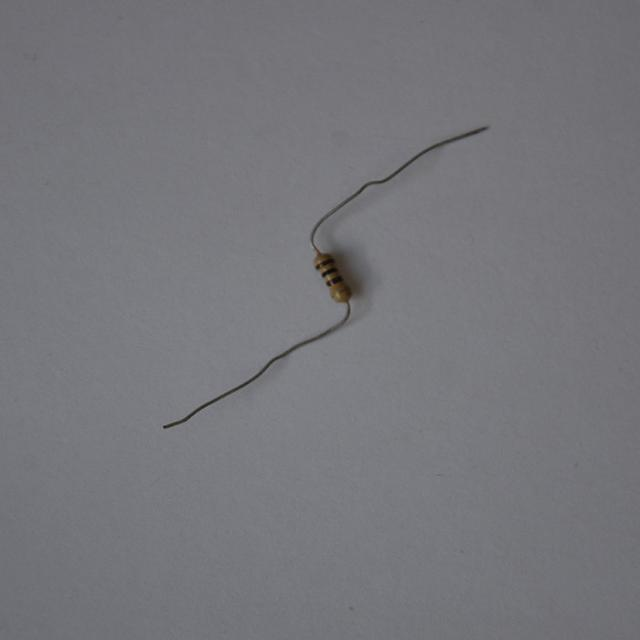black: (320, 267, 336, 276)
brown: (315, 259, 335, 270), (325, 276, 341, 286)
gold: (329, 287, 348, 299)
resistor: (301, 245, 361, 308)
